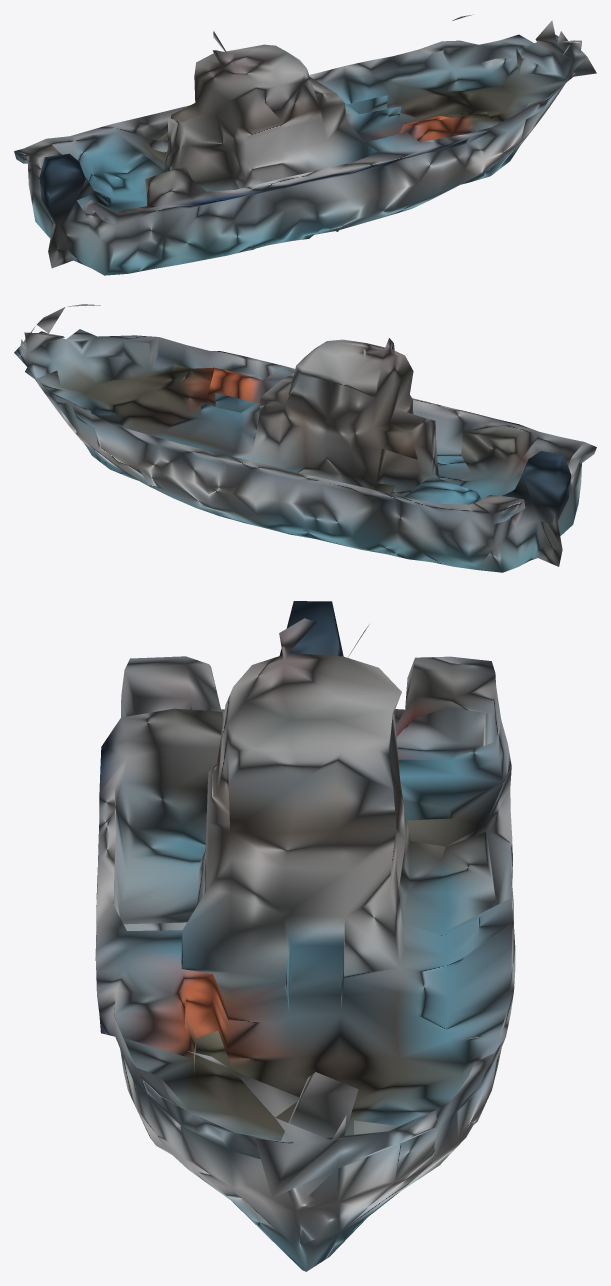
File: fishing_boat.2.glb
3 renders of one model, top to bottom at view 1: azimuth 30°, elevation 25°; view 2: azimuth 150°, elevation 25°; view 3: azimuth 270°, elevation 25°, orthographic. The views are drawn at different scales.
Parts seen in each view (by area): view 1: lod; view 2: lod; view 3: lod.
Boxes of the visible parts, x1,y1,x2,y2 form: lod: (14,14,596,275); lod: (14,304,596,572); lod: (95,601,515,1271).
Size of the model in its own units: 0.9762 by 0.3398 by 0.3272.
